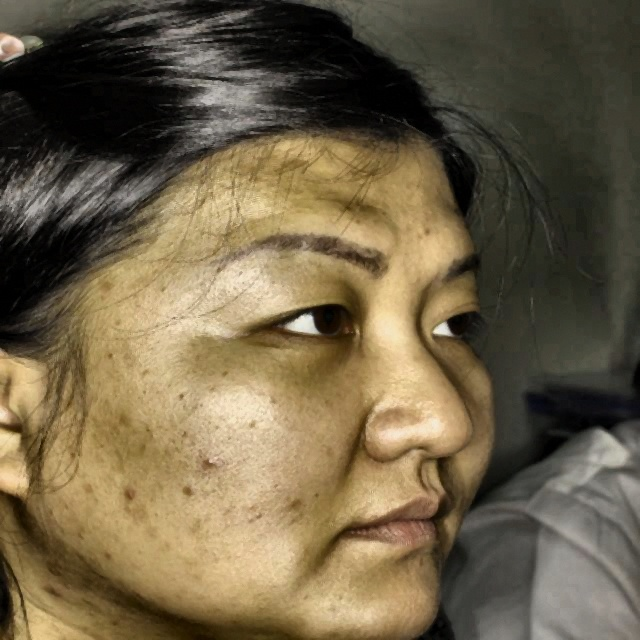comedone: (115, 482, 145, 510), (194, 452, 224, 479), (175, 478, 201, 503)
